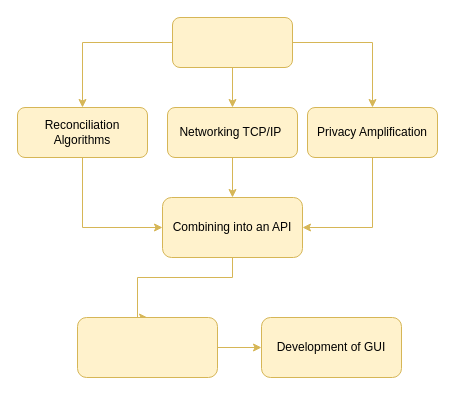
Image size: 455x395. Some labels were removed from this diagram. The centre of each missing label's shape, as x and y in pixels:
"Literature Review" belongs at (x=232, y=42).
"Testing & Analysis with lab data" belongs at (x=147, y=347).
